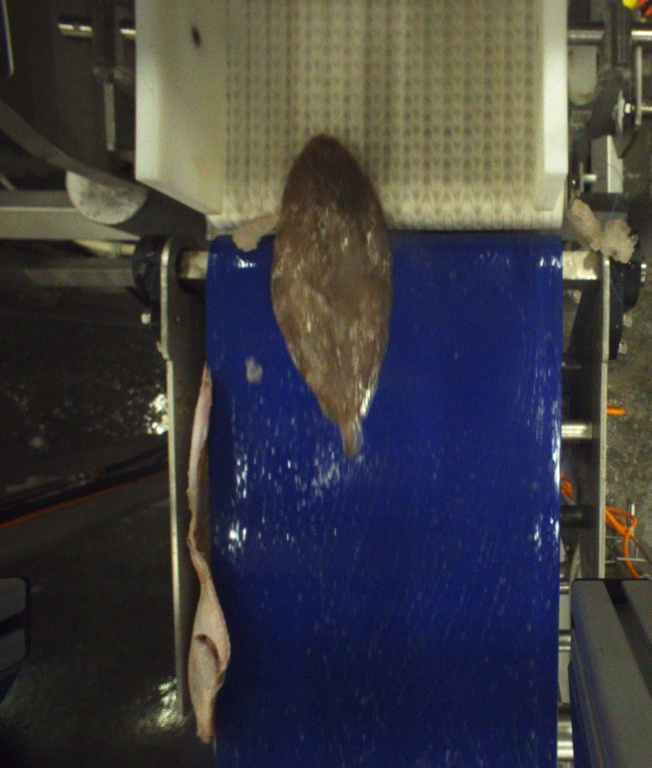SOL: (274, 130, 393, 454)
